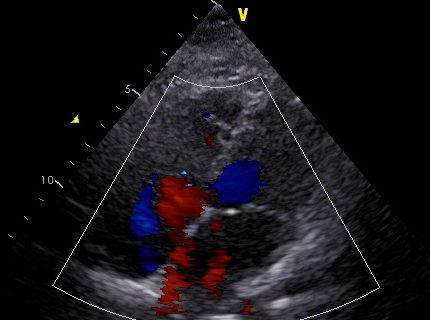TR: (131, 171, 210, 238)
